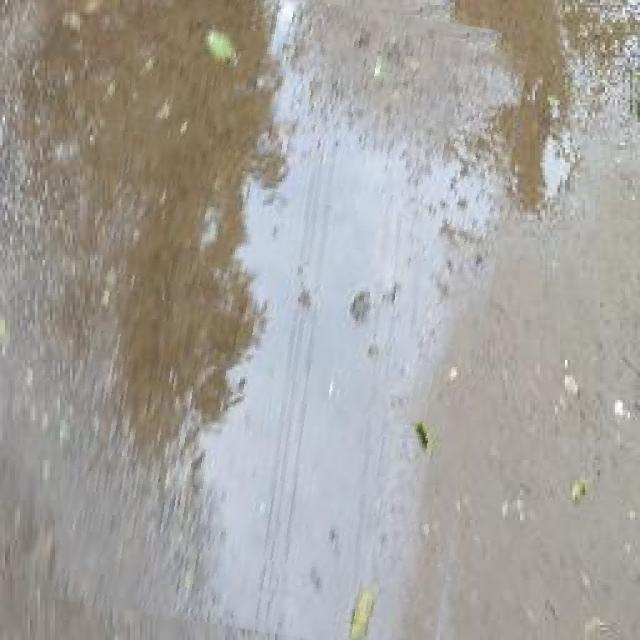puddle: (74, 1, 508, 640)
